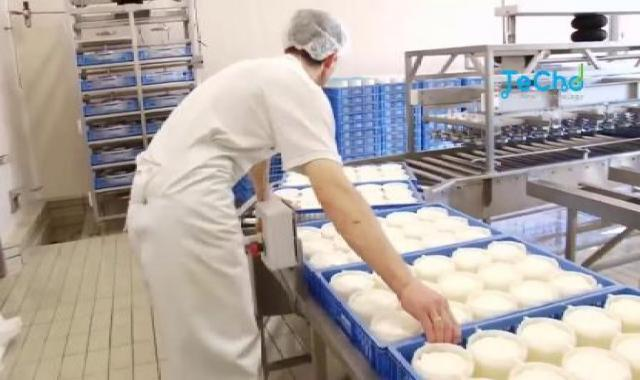Apron: (122, 120, 261, 380)
Hairnet: (282, 5, 348, 62)
No_Glove: (395, 276, 467, 343)
